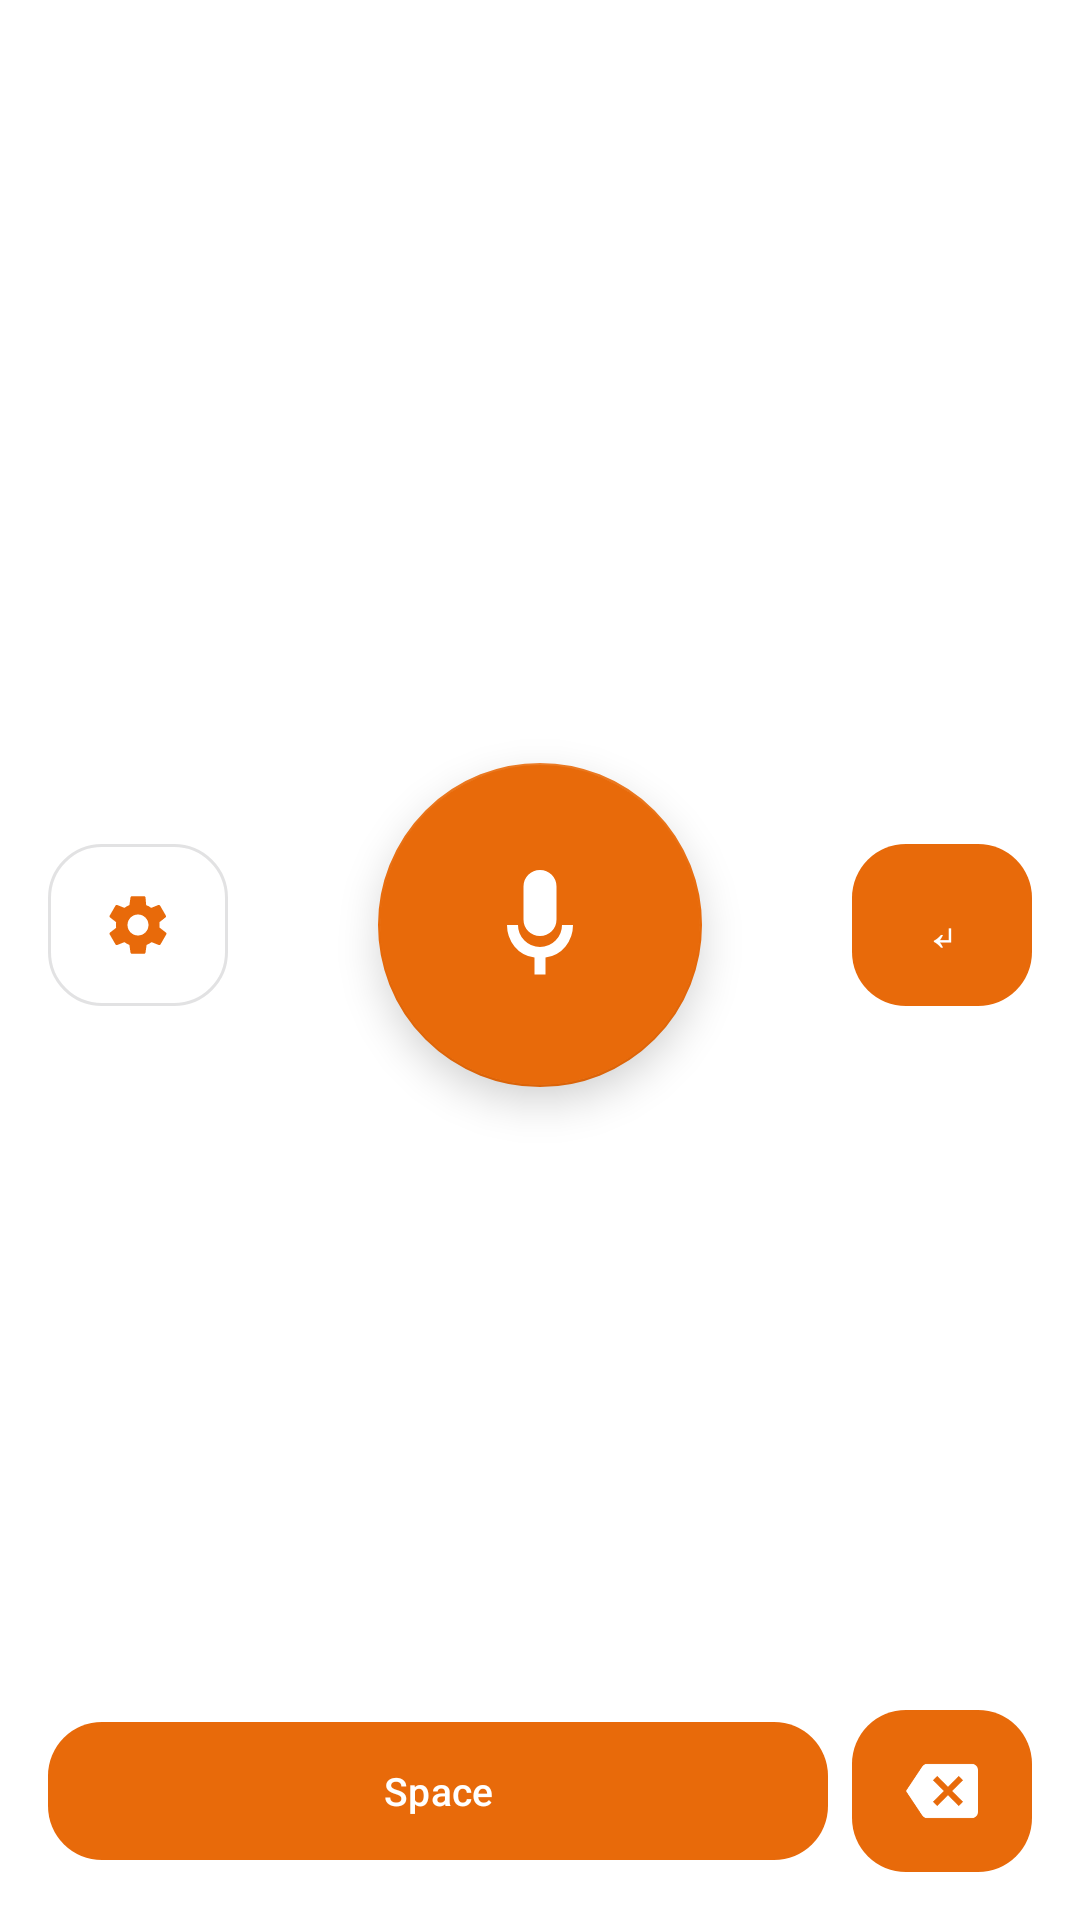

Icons on this 1080*1920 Android screen, each with its box as (x1, y1, x2, y2):
Voice input — hold for push-to-talk, tap for hands-free: (378, 763, 702, 1087)
